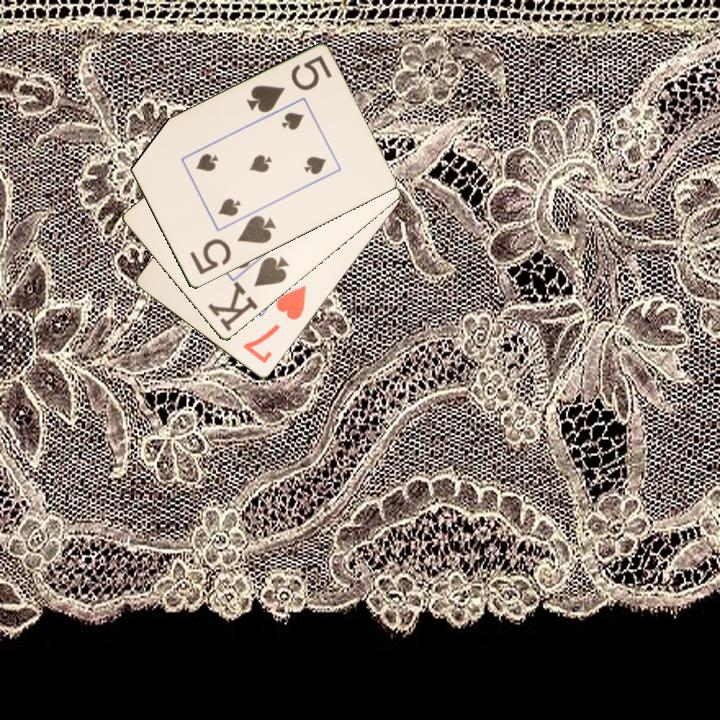5s: (186, 212, 279, 278), (242, 52, 335, 116)
7h: (239, 282, 309, 367)
Ks: (204, 253, 293, 335)
